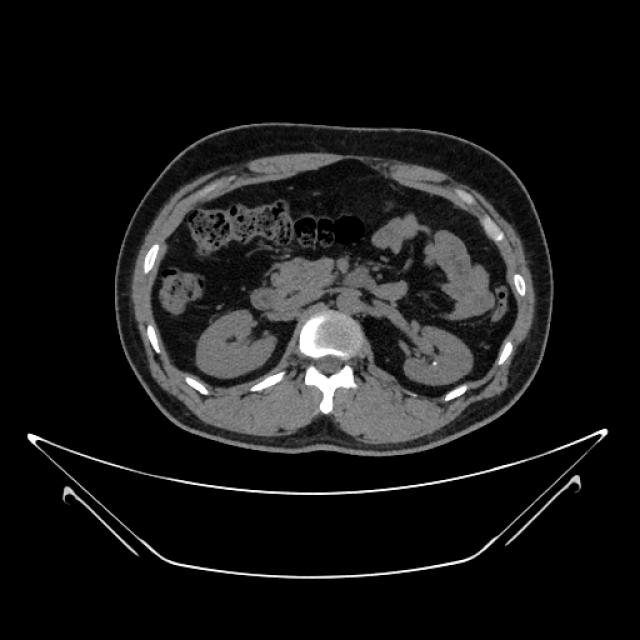kidneystone: (431, 360, 436, 368)
